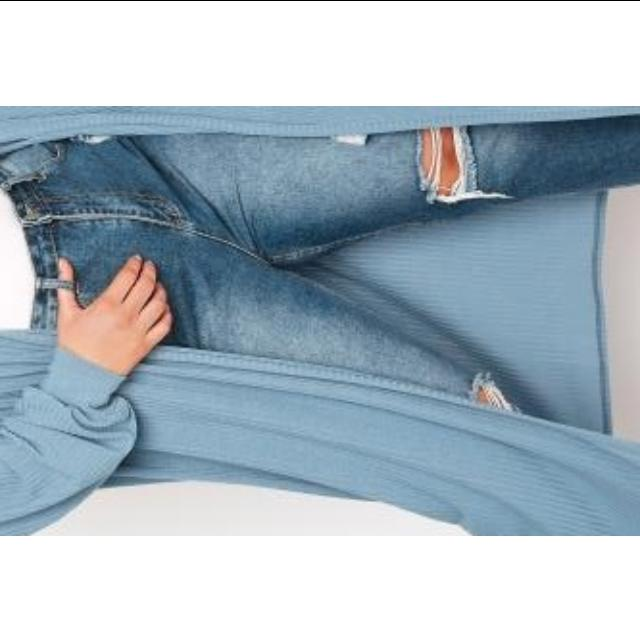denim: (28, 133, 264, 273)
